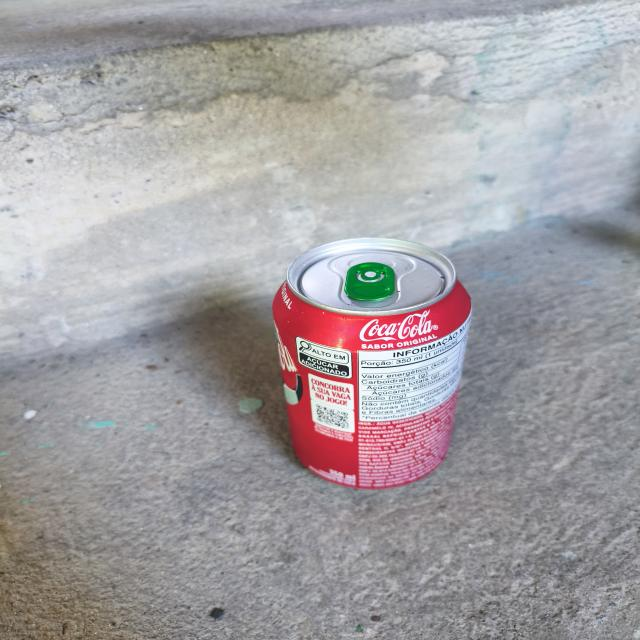Coca Cola: (244, 203, 596, 604)
